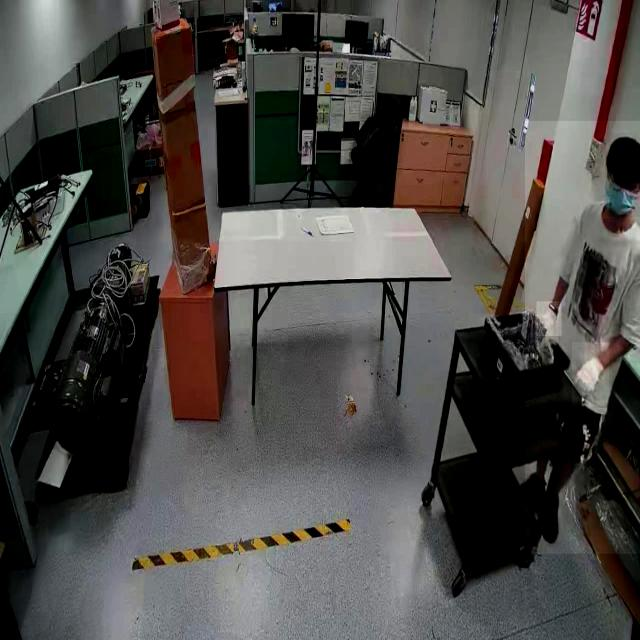face_mask: (604, 164, 640, 217)
hand_glove: (571, 342, 609, 407), (536, 301, 562, 336)
head_nohelmet: (608, 132, 638, 169)
person: (524, 121, 640, 555)
